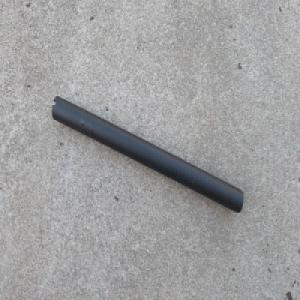LuggagePart: (50, 93, 244, 215)
